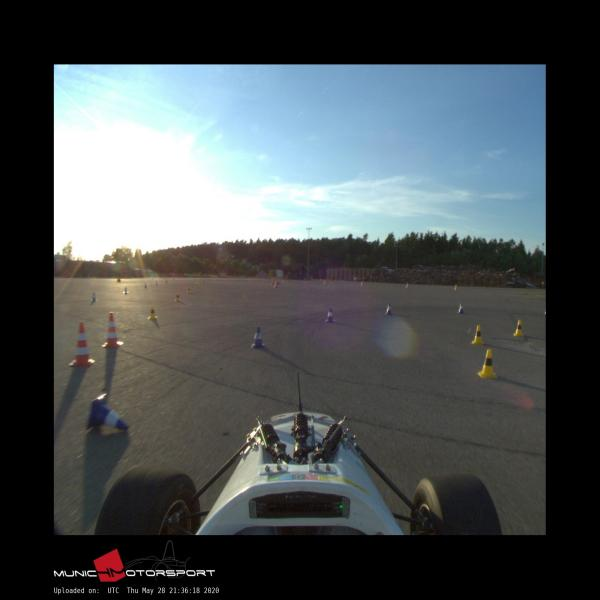blue_cone: (86, 394, 128, 430), (252, 326, 266, 348), (325, 308, 336, 323), (457, 303, 465, 314), (385, 303, 392, 315)
large_orange_cone: (68, 322, 95, 366), (102, 312, 124, 348)
yellow_cone: (477, 349, 498, 378), (471, 325, 484, 345), (513, 320, 524, 337), (147, 306, 158, 319)
